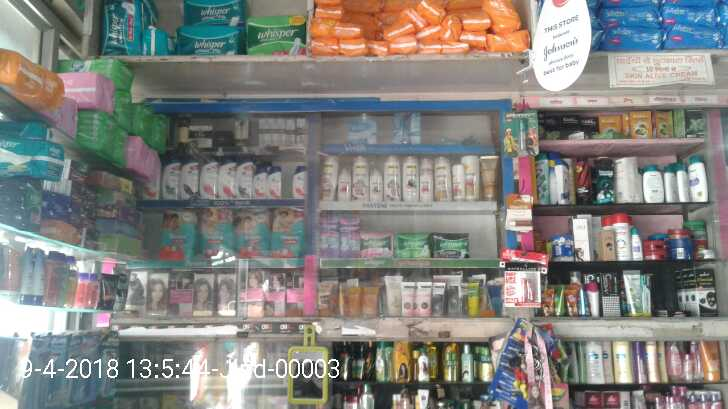venus: (391, 112, 423, 145), (346, 118, 378, 143), (433, 134, 483, 145)
